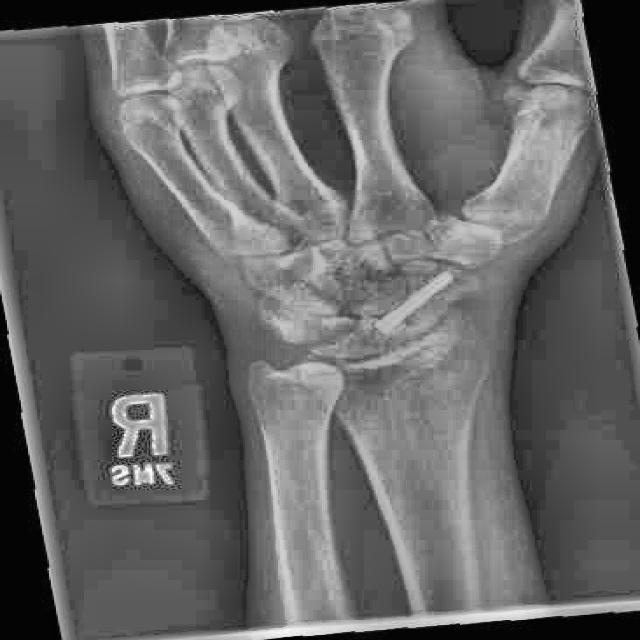wrist positive: (265, 316, 407, 373)
